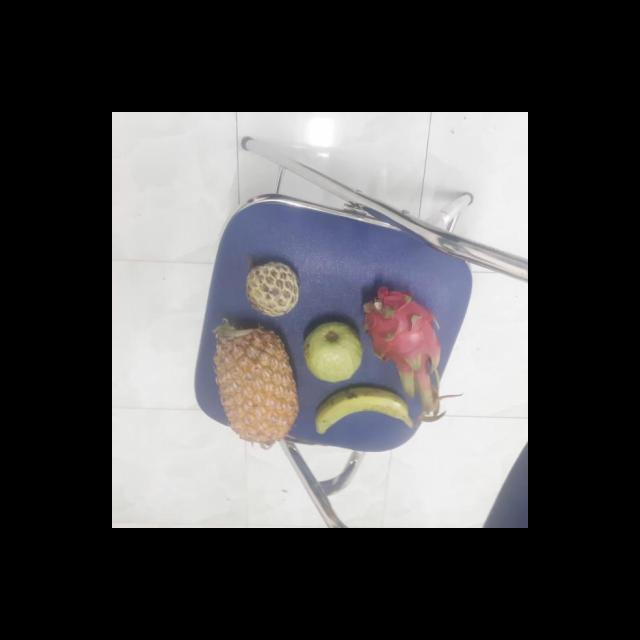Sakya fruit: (241, 261, 298, 316)
guava: (300, 319, 364, 384)
pineapple: (210, 322, 299, 442)
pitaya: (359, 288, 442, 402)
